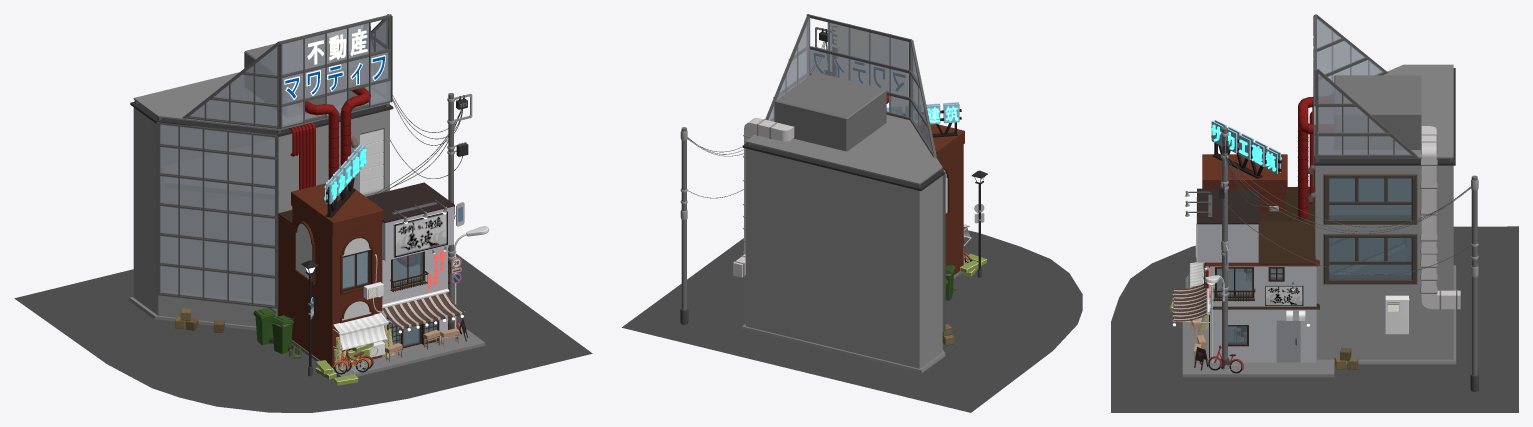
File: house.glb
3 renders of one model, left to right at view 1: azimuth 30°, elevation 25°; view 2: azimuth 150°, elevation 25°; view 3: azimuth 270°, elevation 25°, orthographic. The views are drawn at different scales.
Parts seen in each view (by area): view 1: polySurface1456, polySurface1061, polySurface830, polySurface1117, polySurface1254, polySurface1411, polySurface1004, polySurface1007, polySurface1002, polySurface1541, polySurface1243, polySurface1060 (+18 smaller); view 2: polySurface1061, polySurface1456, polySurface1411, polySurface1254, polySurface1004, polySurface1117, polySurface1234, polySurface1095, polySurface856, polySurface1060, polySurface608, polySurface1002 (+1 smaller); view 3: polySurface1456, polySurface1061, polySurface845, polySurface1411, polySurface1254, polySurface1242, polySurface856, polySurface1095, polySurface1243, polySurface860, polySurface857, polySurface1007 (+21 smaller).
Part boxes in pixels (bbox=[...]): polySurface1456: bbox=[14, 248, 592, 412]; polySurface1061: bbox=[133, 107, 389, 326]; polySurface830: bbox=[160, 124, 274, 305]; polySurface1117: bbox=[277, 206, 382, 368]; polySurface1254: bbox=[133, 72, 389, 130]; polySurface1411: bbox=[244, 34, 365, 117]; polySurface1004: bbox=[282, 23, 368, 103]; polySurface1007: bbox=[165, 139, 274, 199]; polySurface1002: bbox=[190, 47, 277, 125]; polySurface1541: bbox=[291, 183, 383, 235]; polySurface1243: bbox=[291, 318, 485, 377]; polySurface1060: bbox=[128, 268, 274, 330]; polySurface1061: bbox=[745, 148, 942, 368]; polySurface1456: bbox=[622, 230, 1082, 412]; polySurface1411: bbox=[774, 72, 886, 151]; polySurface1254: bbox=[745, 115, 942, 184]; polySurface1004: bbox=[827, 22, 908, 97]; polySurface1117: bbox=[939, 144, 963, 275]; polySurface1234: bbox=[742, 143, 944, 190]; polySurface1095: bbox=[733, 118, 794, 277]; polySurface856: bbox=[768, 17, 810, 121]; polySurface1060: bbox=[741, 324, 945, 372]; polySurface608: bbox=[681, 127, 686, 309]; polySurface1002: bbox=[910, 42, 932, 152]; polySurface1456: bbox=[1111, 226, 1518, 412]; polySurface1061: bbox=[1315, 165, 1453, 359]; polySurface845: bbox=[1210, 266, 1316, 362]; polySurface1411: bbox=[1334, 75, 1421, 149]; polySurface1254: bbox=[1315, 64, 1453, 158]; polySurface1242: bbox=[1258, 187, 1315, 264]; polySurface856: bbox=[1318, 74, 1410, 154]; polySurface1095: bbox=[1421, 126, 1460, 309]; polySurface1243: bbox=[1182, 320, 1334, 377]; polySurface860: bbox=[1329, 238, 1411, 278]; polySurface857: bbox=[1329, 178, 1411, 218]; polySurface1007: bbox=[1330, 179, 1410, 214].
Size of the model in its own units: 37.02 by 27.2 by 34.21.
Materials: 89 (9 with a texture image).
